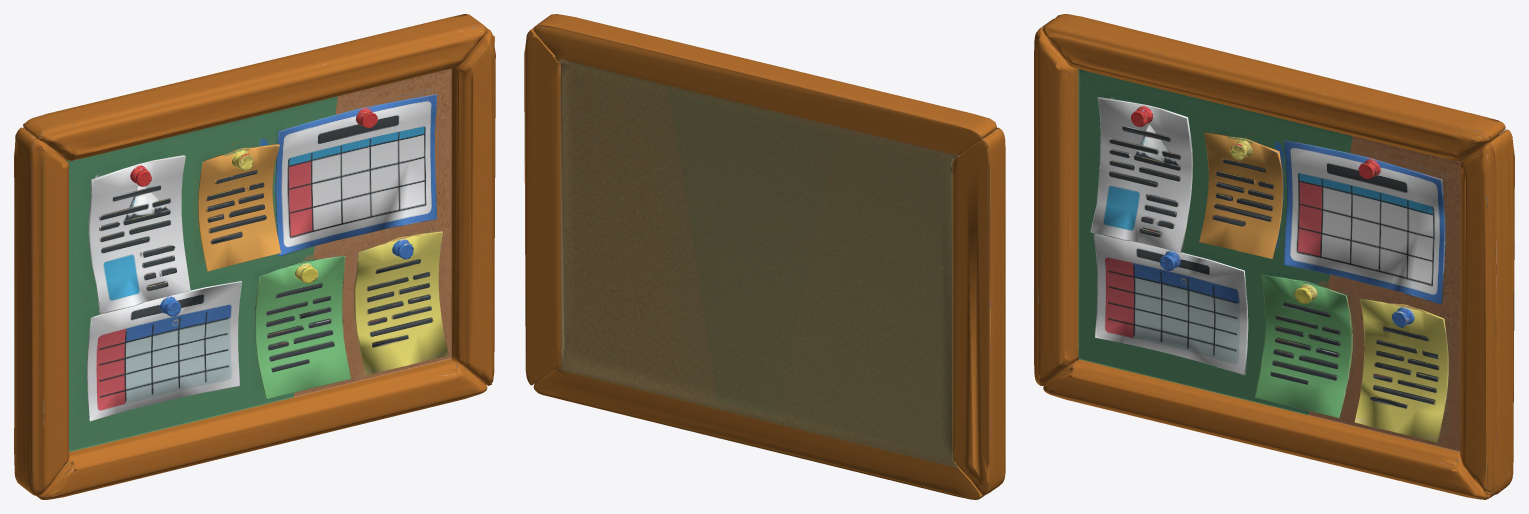
The model's file is Meshy_AI_Pinned_Plans_on_the_Bulletin_Board_20261028_texture.fbx.
3 renders of one model, left to right at view 1: azimuth 30°, elevation 25°; view 2: azimuth 150°, elevation 25°; view 3: azimuth 330°, elevation 25°, orthographic.
Visible parts, largest first — view 1: Mesh_0; view 2: Mesh_0; view 3: Mesh_0.
Boxes of the visible parts, x1=… form: Mesh_0: x1=14, y1=14, x2=495, y2=499; Mesh_0: x1=524, y1=14, x2=1005, y2=499; Mesh_0: x1=1034, y1=14, x2=1514, y2=499.
Bounding box in the file's own units: 95.7 × 73 × 8.4.
1 material, 1 textured.
